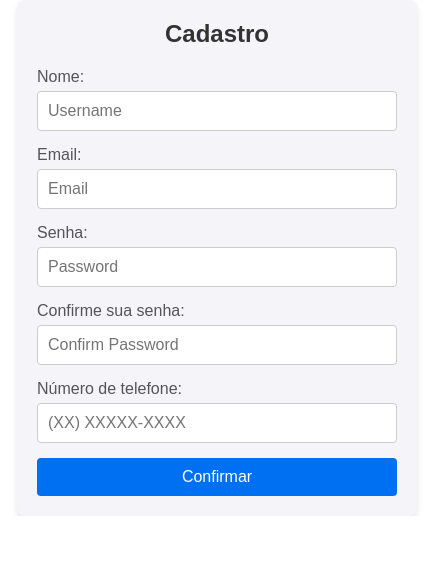
it: CadastroForm › deve exibir mensagem de sucesso com dados válidos
The image size is (435, 564).
In the field labelled "Nome:": (217, 111) [37,91,397,131], type "João"
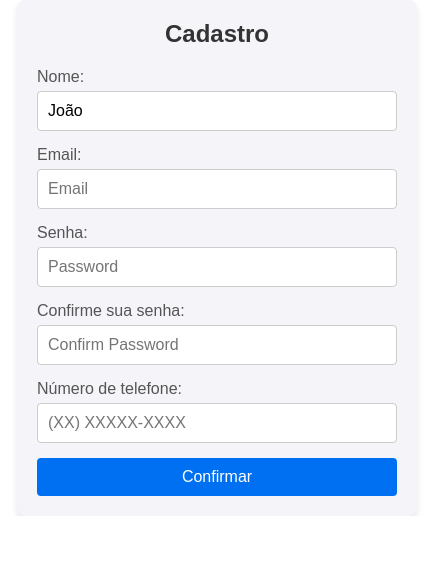
In the field labelled "Email:": (217, 189) [37,169,397,209], type "joao@email.com"
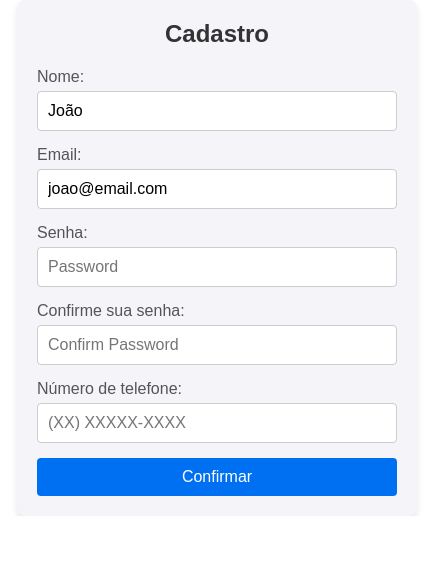
In the password field labelled "Senha:": (217, 267) [37,247,397,287], type "123456"
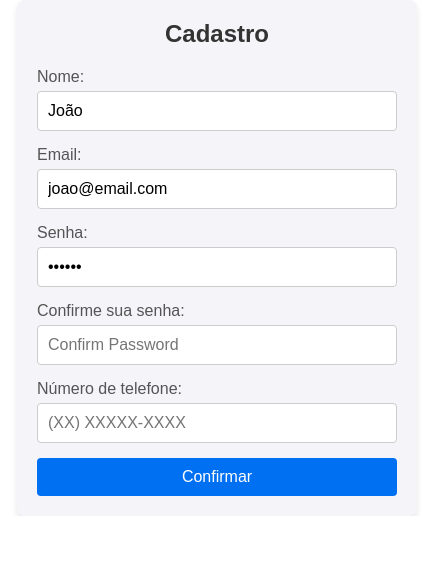
In the password field labelled "Confirme sua senha:": (217, 345) [37,325,397,365], type "123456"
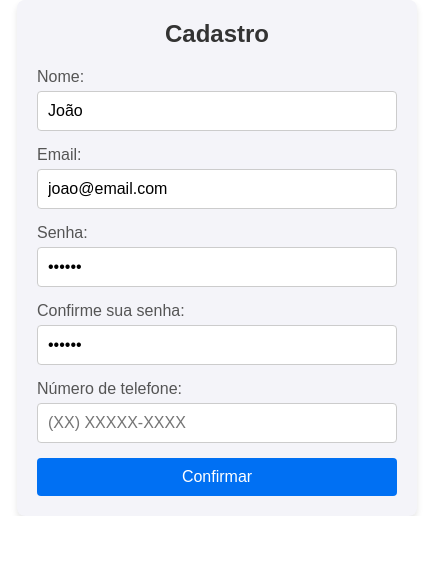
In the field labelled "Número de telefone:": (217, 423) [37,403,397,443], type "11987654321"
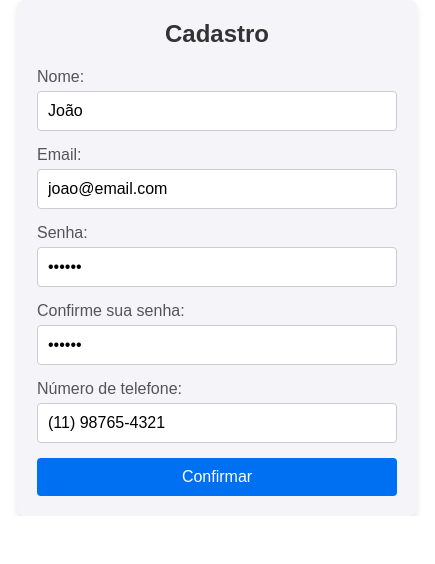
Click the button "Confirmar": (217, 477) [37,458,397,496]
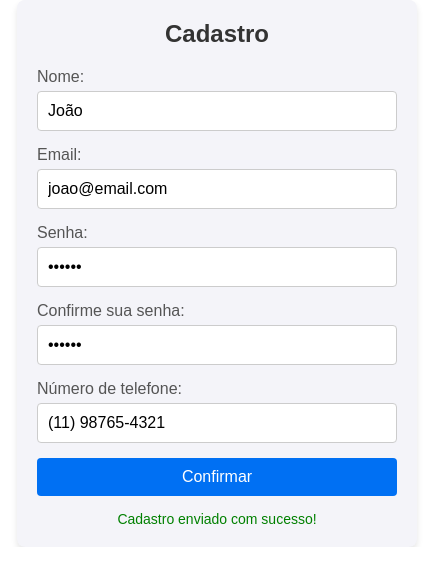
Expected: the text "Cadastro enviado com sucesso!" is shown, [117,511,317,527]
